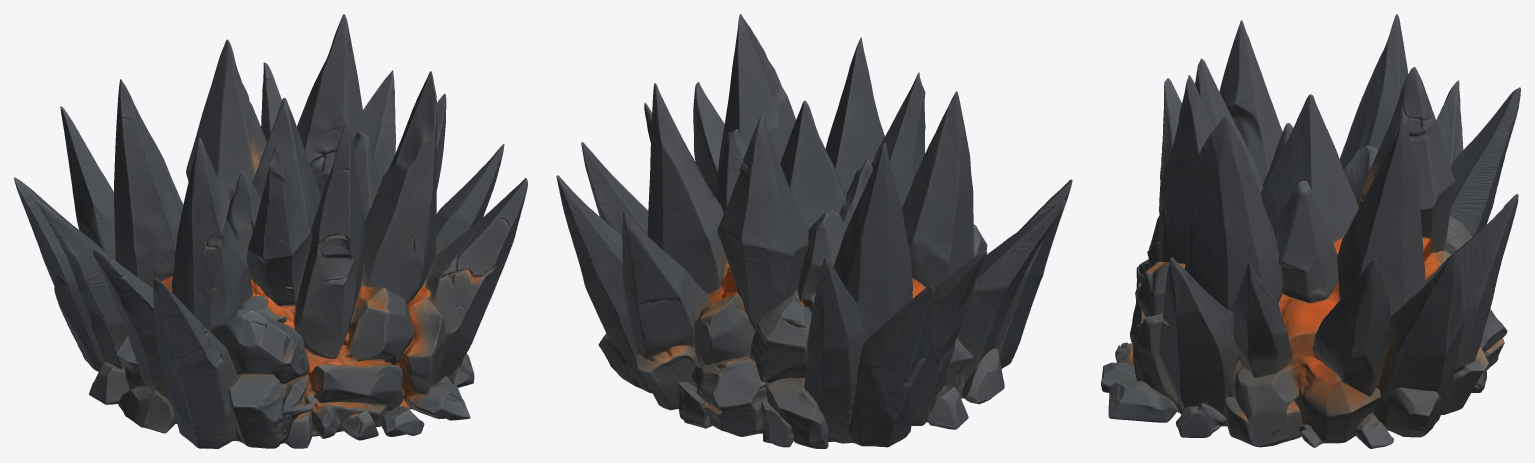
3 views of the same model, side by side, from view 1: azimuth 30°, elevation 25°; view 2: azimuth 150°, elevation 25°; view 3: azimuth 270°, elevation 25° (orthographic). The views are drawn at different scales.
Parts seen in each view (by area): view 1: model; view 2: model; view 3: model.
Part boxes in pixels (box(x1,y1,x2,y2)): model: box(14, 14, 527, 448); model: box(556, 14, 1072, 448); model: box(1101, 14, 1520, 448).
Bounding box in the file's own units: 1.89 × 1.31 × 1.6.
Materials: 1 (1 with a texture image).
